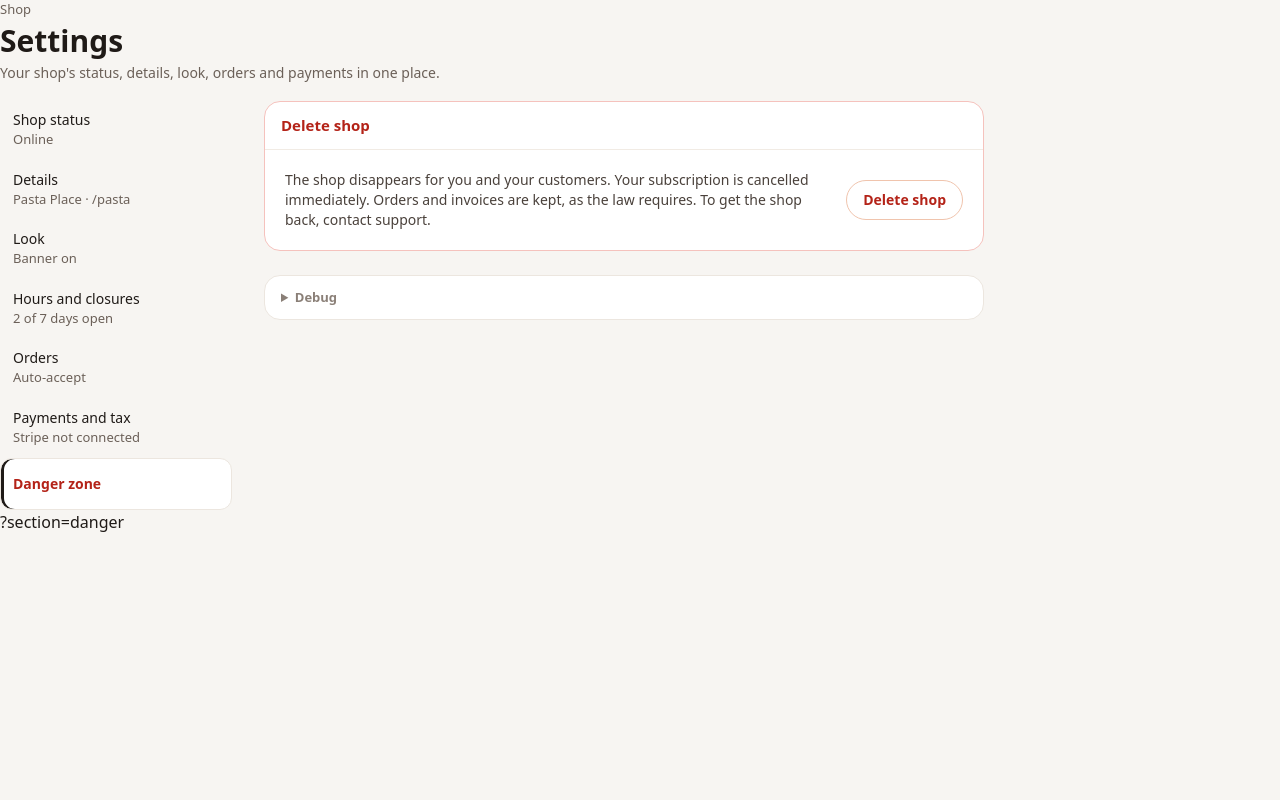
ShopSettingsPage sections › delete confirm in the danger zone needs the exact shop name
Click the button "Delete shop". click: coordinates (905, 200)
box: [846,180,963,220]
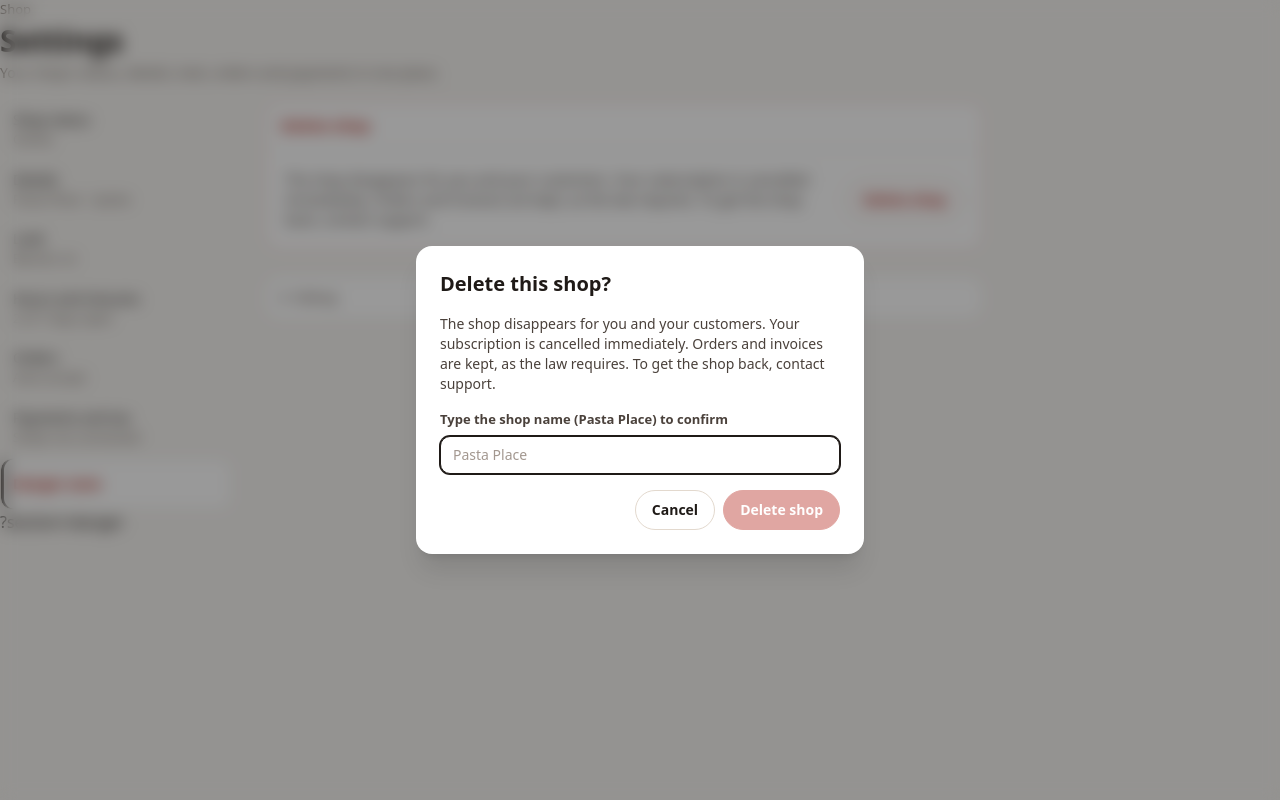
expect the button "Delete shop" is disabled: met, box [723,490,840,530]
Type "pasta place" into the field labelled "Type the shop name (Pasta Place) to confirm". click: coordinates (640, 455)
box: [440,436,840,474]
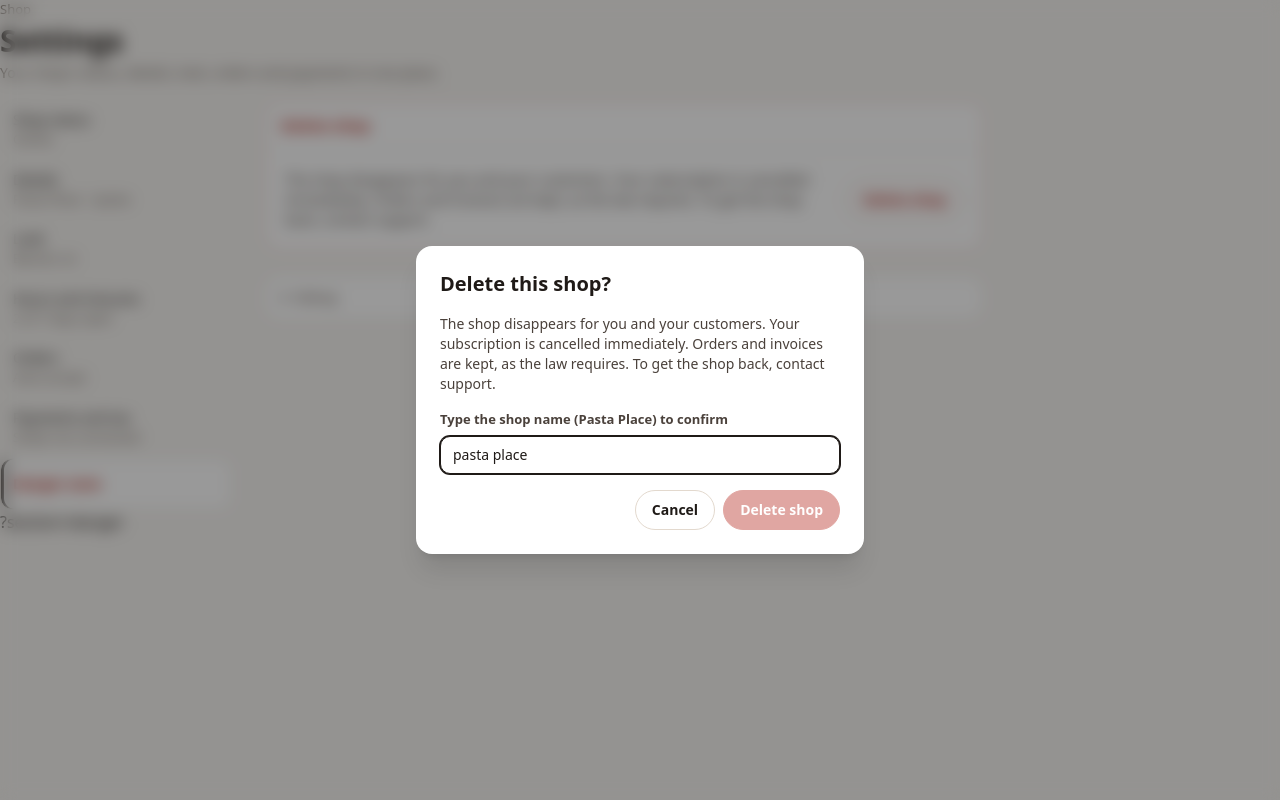
expect the button "Delete shop" is disabled: met, box [723,490,840,530]
Replace the text in the field labelled "Type the shop name (Pasta Place) to confirm" with "Pasta Place". click: coordinates (640, 455)
box: [440,436,840,474]
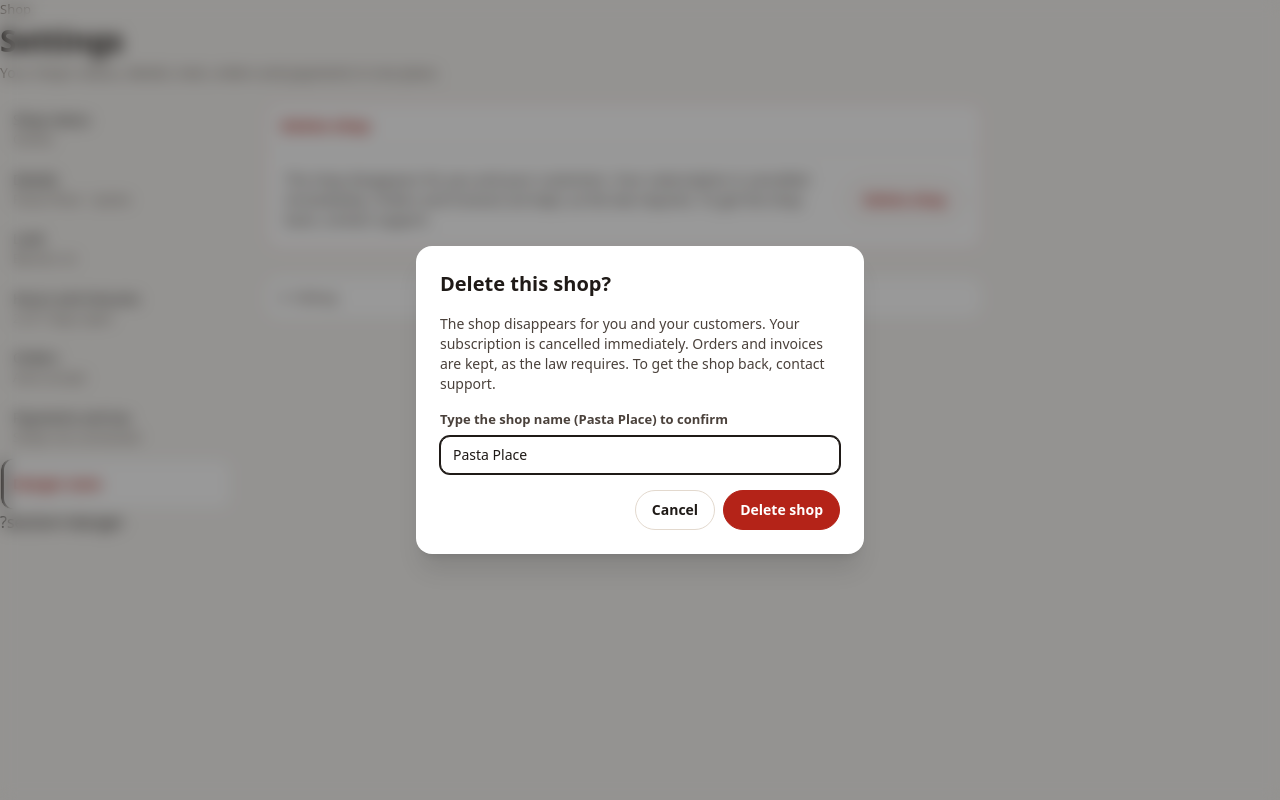
expect the button "Delete shop" is enabled: met, box [723,490,840,530]
